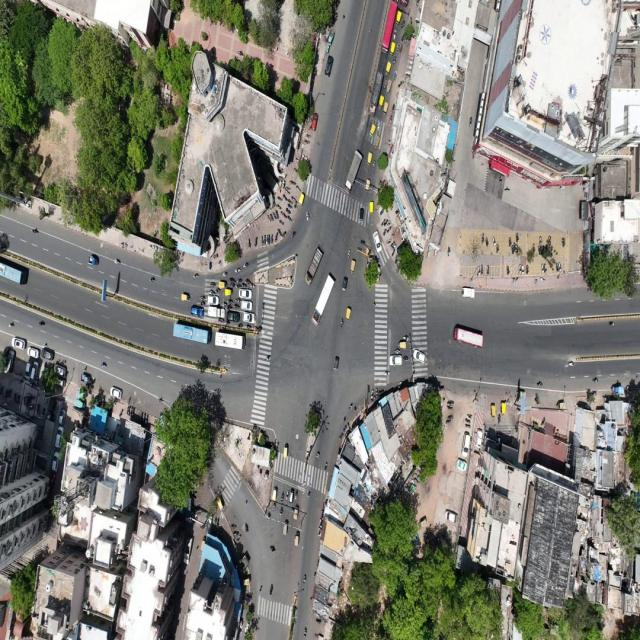3W: (214, 492, 225, 514), (330, 354, 342, 374), (280, 441, 291, 462), (344, 304, 355, 324), (338, 274, 349, 293), (86, 252, 99, 268), (349, 258, 359, 277), (269, 481, 278, 502), (179, 288, 190, 304), (367, 200, 376, 217), (293, 530, 301, 549), (396, 338, 408, 350), (384, 60, 392, 77), (489, 400, 496, 419), (282, 519, 289, 538), (500, 400, 508, 416), (293, 505, 300, 523), (395, 9, 402, 27), (298, 191, 306, 206), (368, 123, 376, 138), (358, 207, 365, 224), (364, 178, 371, 194), (389, 41, 396, 56), (366, 151, 372, 168), (374, 133, 380, 150), (386, 80, 393, 94), (218, 280, 226, 290), (224, 287, 232, 297), (383, 102, 389, 115), (379, 95, 384, 109)
Bus: (168, 321, 211, 348), (450, 323, 490, 351), (213, 330, 246, 354)
Cars: (460, 429, 472, 460), (460, 283, 478, 302), (40, 342, 57, 361), (443, 504, 459, 524), (371, 229, 383, 255), (48, 451, 62, 473), (308, 108, 322, 130), (11, 332, 26, 352), (324, 54, 336, 79), (412, 347, 428, 364), (54, 426, 66, 448), (56, 406, 68, 425), (108, 386, 124, 400), (388, 354, 403, 368), (188, 305, 204, 318), (27, 346, 41, 360), (241, 310, 256, 323), (225, 311, 241, 323), (239, 287, 253, 300), (52, 364, 66, 376), (240, 300, 254, 312), (31, 362, 39, 379), (24, 361, 31, 380), (207, 295, 220, 305), (289, 487, 294, 506)
LCV: (207, 307, 225, 317)
M2W: (298, 618, 310, 639), (28, 222, 40, 239), (192, 267, 202, 282), (591, 372, 600, 388), (100, 355, 109, 371), (148, 271, 156, 288), (567, 356, 576, 371), (112, 255, 122, 268), (322, 459, 330, 474), (304, 207, 311, 224), (278, 488, 285, 505), (343, 247, 352, 260), (536, 376, 544, 390), (476, 260, 482, 278), (244, 517, 250, 535), (268, 582, 275, 597), (265, 509, 273, 522), (37, 319, 47, 329), (608, 317, 615, 331), (314, 448, 321, 462), (269, 542, 277, 554), (301, 572, 308, 585), (466, 409, 475, 419), (246, 236, 252, 251), (264, 352, 272, 363), (561, 235, 567, 249), (486, 262, 492, 276), (495, 242, 501, 256), (339, 317, 345, 331), (270, 501, 277, 513), (480, 262, 485, 278), (242, 261, 250, 271), (484, 237, 490, 250), (514, 230, 520, 243), (294, 489, 300, 502), (285, 486, 290, 501), (463, 422, 472, 430), (507, 236, 513, 248), (402, 333, 411, 341), (404, 352, 409, 366), (278, 507, 285, 517), (8, 320, 15, 330), (234, 265, 241, 275), (266, 213, 271, 227), (538, 234, 544, 245), (376, 121, 382, 132), (445, 418, 453, 426), (446, 404, 455, 411), (463, 418, 473, 424), (480, 228, 484, 243), (524, 265, 530, 275), (517, 264, 522, 276), (272, 210, 278, 220), (281, 210, 287, 220), (288, 214, 294, 224), (304, 137, 310, 147), (393, 54, 398, 66), (396, 44, 402, 54), (209, 280, 216, 288), (198, 299, 206, 306), (236, 275, 243, 283), (305, 130, 312, 138), (372, 160, 377, 171), (447, 398, 456, 404), (296, 184, 302, 193), (290, 194, 296, 203), (492, 234, 496, 247), (254, 236, 258, 249), (393, 70, 398, 80), (393, 30, 398, 40), (208, 288, 215, 295), (220, 300, 227, 307), (289, 179, 296, 186), (284, 189, 291, 196), (506, 264, 510, 276), (220, 271, 228, 277), (198, 294, 206, 300), (227, 296, 233, 304), (246, 322, 252, 330), (260, 235, 264, 247), (276, 202, 282, 210), (276, 194, 282, 202), (390, 248, 396, 256), (498, 411, 501, 426), (541, 262, 544, 276), (233, 304, 240, 310), (387, 225, 393, 232), (277, 228, 282, 236), (274, 234, 278, 244), (448, 413, 454, 419), (230, 282, 236, 288), (236, 282, 242, 288), (242, 283, 248, 289), (227, 304, 233, 310), (238, 322, 244, 328), (265, 234, 268, 246), (270, 233, 273, 245), (287, 203, 293, 209), (381, 217, 385, 226), (229, 278, 236, 283), (217, 318, 224, 323), (226, 319, 231, 326), (382, 230, 387, 237), (384, 78, 387, 89), (388, 237, 392, 245), (216, 287, 221, 293), (235, 298, 241, 303), (246, 277, 250, 284)
Truck: (305, 273, 337, 331), (344, 144, 364, 194), (302, 243, 324, 286), (366, 67, 384, 118)
